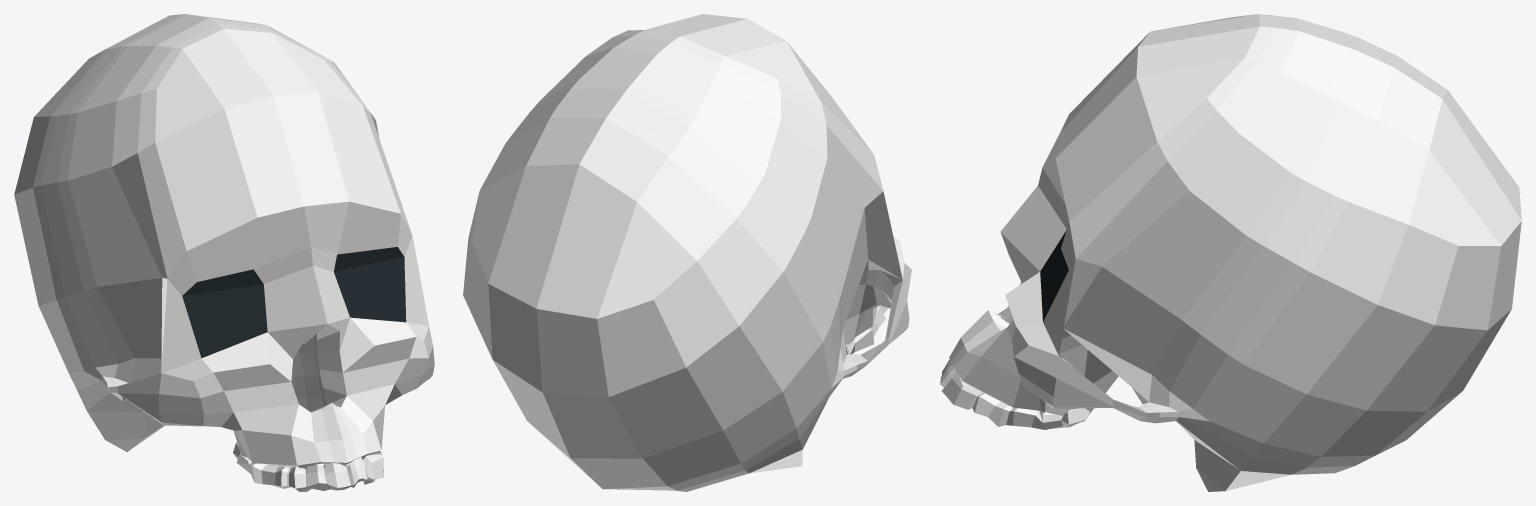
Rendered from Skull.fbx.
3 renders of one model, left to right at view 1: azimuth 30°, elevation 25°; view 2: azimuth 150°, elevation 25°; view 3: azimuth 270°, elevation 25°, orthographic. The views are drawn at different scales.
Visible parts, largest first — view 1: Skull; view 2: Skull; view 3: Skull.
Boxes of the visible parts, x1=… form: Skull: x1=14, y1=14, x2=434, y2=491; Skull: x1=463, y1=14, x2=911, y2=491; Skull: x1=940, y1=14, x2=1521, y2=491.
Size of the model in its own units: 19.52 by 30.17 by 24.42.
